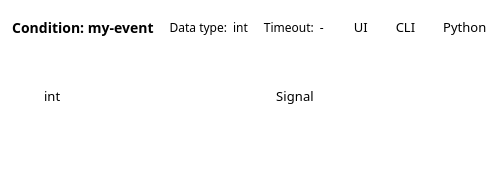
ConditionSignal › numeric controls › shows a validation error and does not signal on invalid integer input
In the number field with placeholder "int": (144, 96) x1=32 y1=80 x2=256 y2=112, type "1.5"
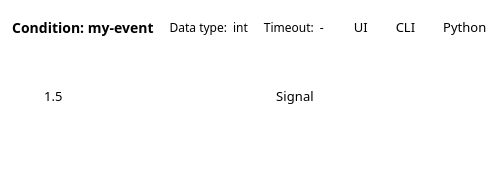
Click the button "Signal": (295, 96) x1=264 y1=82 x2=326 y2=110
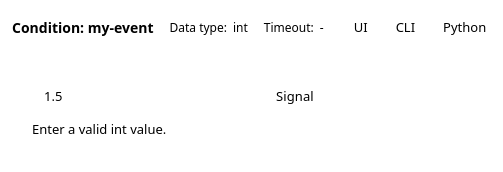
Now the text "Enter a valid int value." is shown, box x1=32 y1=120 x2=166 y2=138
